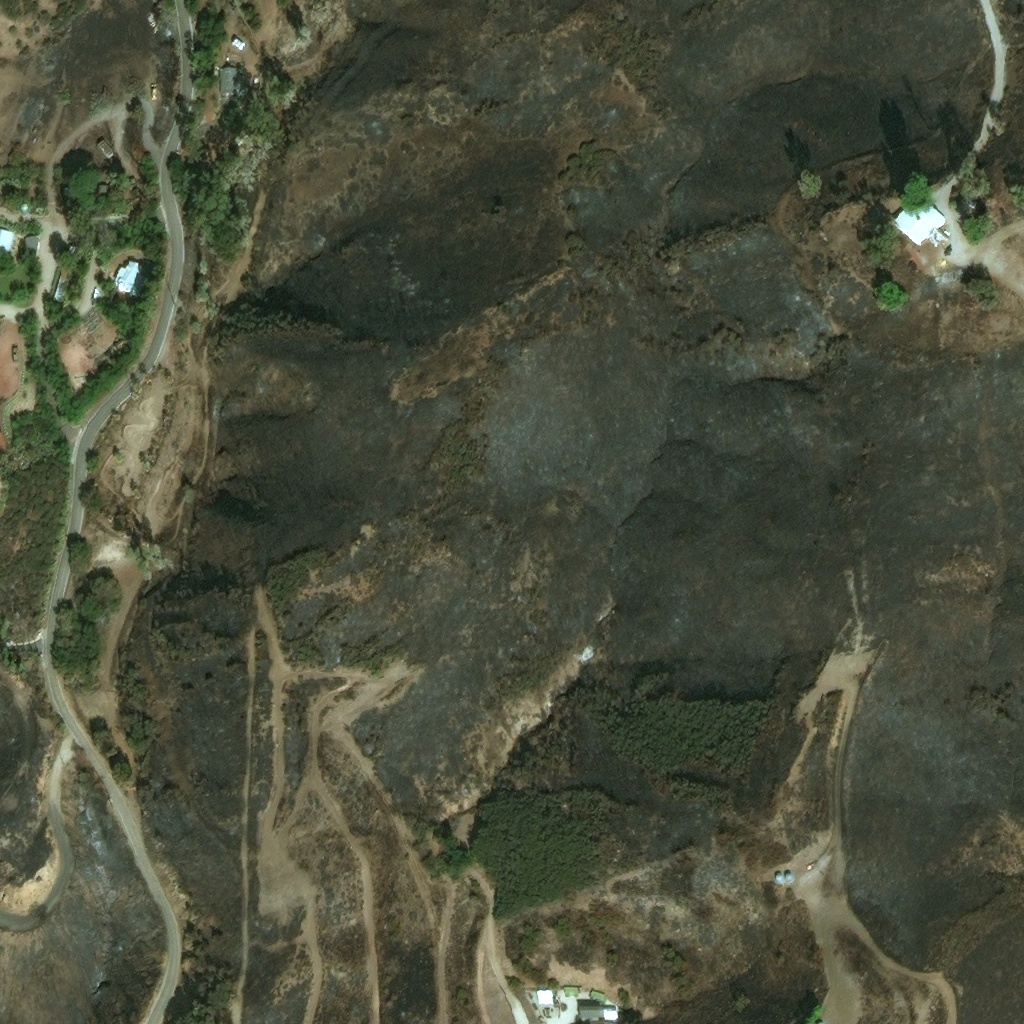0 no-damage: (111, 263, 142, 301), (48, 270, 70, 307), (220, 69, 243, 102), (62, 186, 108, 200), (0, 231, 15, 262), (24, 239, 40, 261), (580, 1003, 602, 1019), (535, 989, 555, 1006), (602, 1004, 620, 1017), (231, 38, 246, 52), (564, 985, 581, 995), (592, 988, 607, 998), (255, 67, 265, 79), (20, 691, 29, 701), (775, 875, 783, 883), (786, 874, 793, 882)
1 minor-damage: (892, 197, 950, 249)
